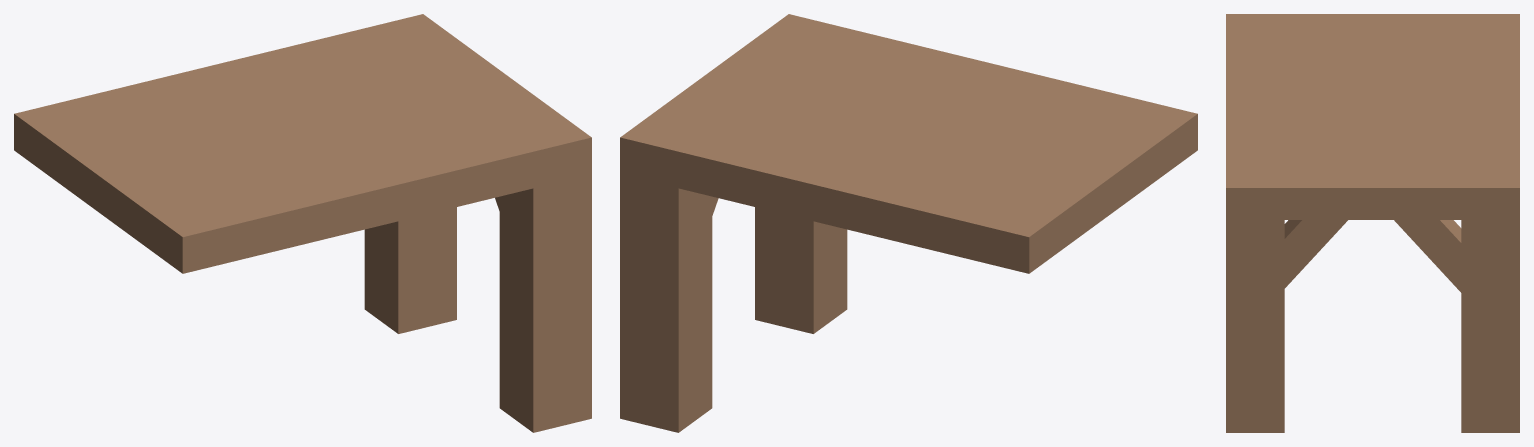
File: Dock.fbx
The picture shows the model from 3 angles, left to right: view 1: azimuth 30°, elevation 25°; view 2: azimuth 150°, elevation 25°; view 3: azimuth 270°, elevation 25°; orthographic projection. The views are drawn at different scales.
Parts seen in each view (by area): view 1: DockPlatform, Fondation, Foncation 2; view 2: DockPlatform, Foncation 2, Fondation; view 3: DockPlatform, Fondation, Foncation 2, Fondation 4, Fondation 3.
Part boxes in pixels (x1,y1,x2,y2): DockPlatform: (14, 14, 591, 273); Fondation: (499, 174, 591, 432); Foncation 2: (364, 207, 456, 333); DockPlatform: (620, 14, 1197, 273); Foncation 2: (620, 174, 712, 432); Fondation: (755, 207, 847, 333); DockPlatform: (1226, 14, 1519, 219); Fondation: (1226, 220, 1284, 432); Foncation 2: (1461, 220, 1519, 432); Fondation 4: (1394, 220, 1461, 292); Fondation 3: (1284, 220, 1347, 288).
Bounding box in the file's own units: 700 × 460 × 500.
